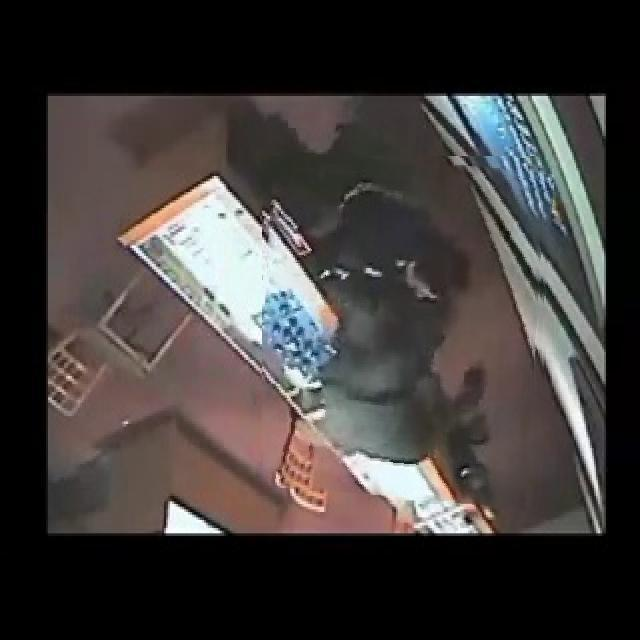Shoplifting: (262, 156, 548, 503)
